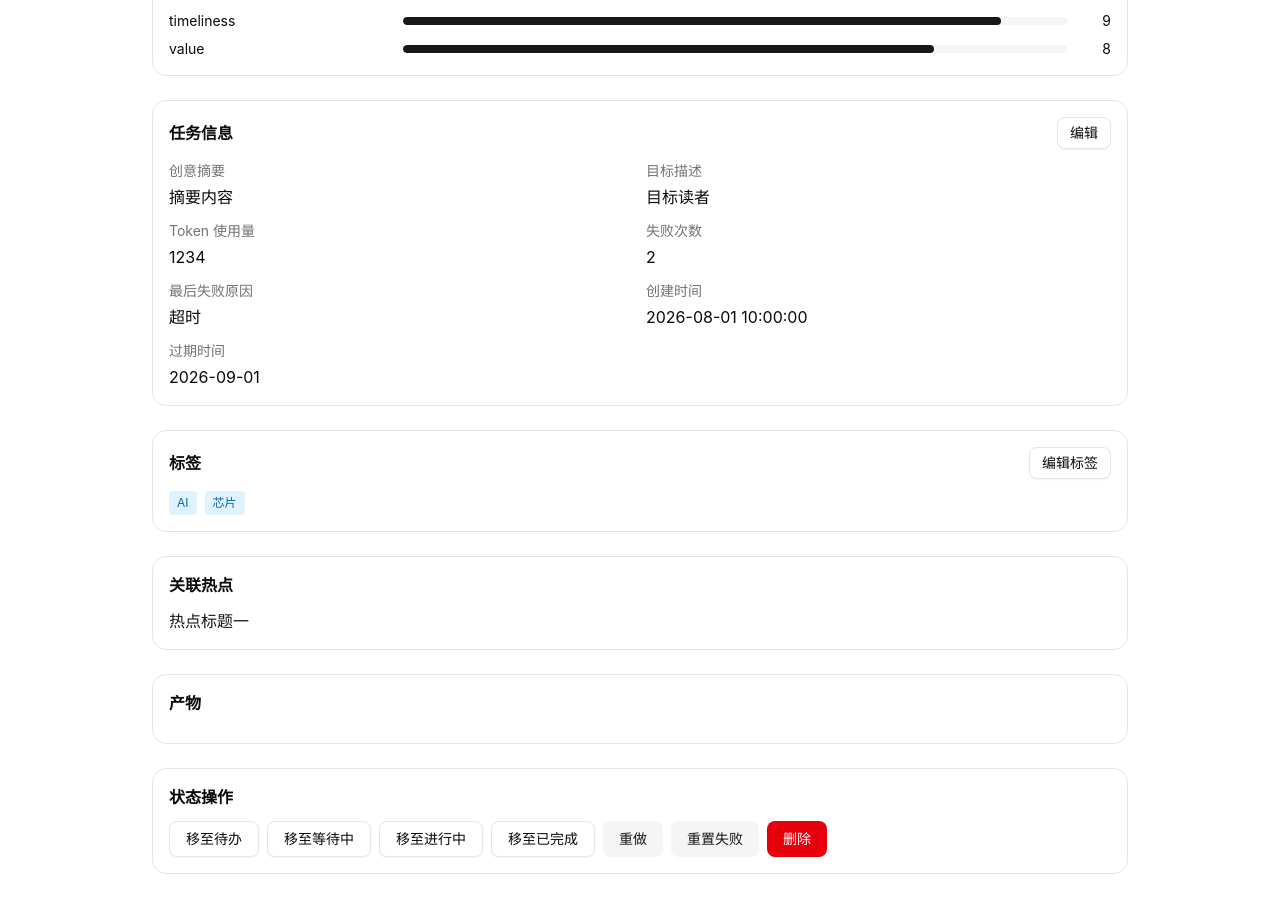
TaskDetailPage › shows an error message when move returns 409
The image size is (1280, 898).
(page scrolled)
Step 1. Click the button "移至等待中" → {"x": 319, "y": 839}, box [267,821,371,857]
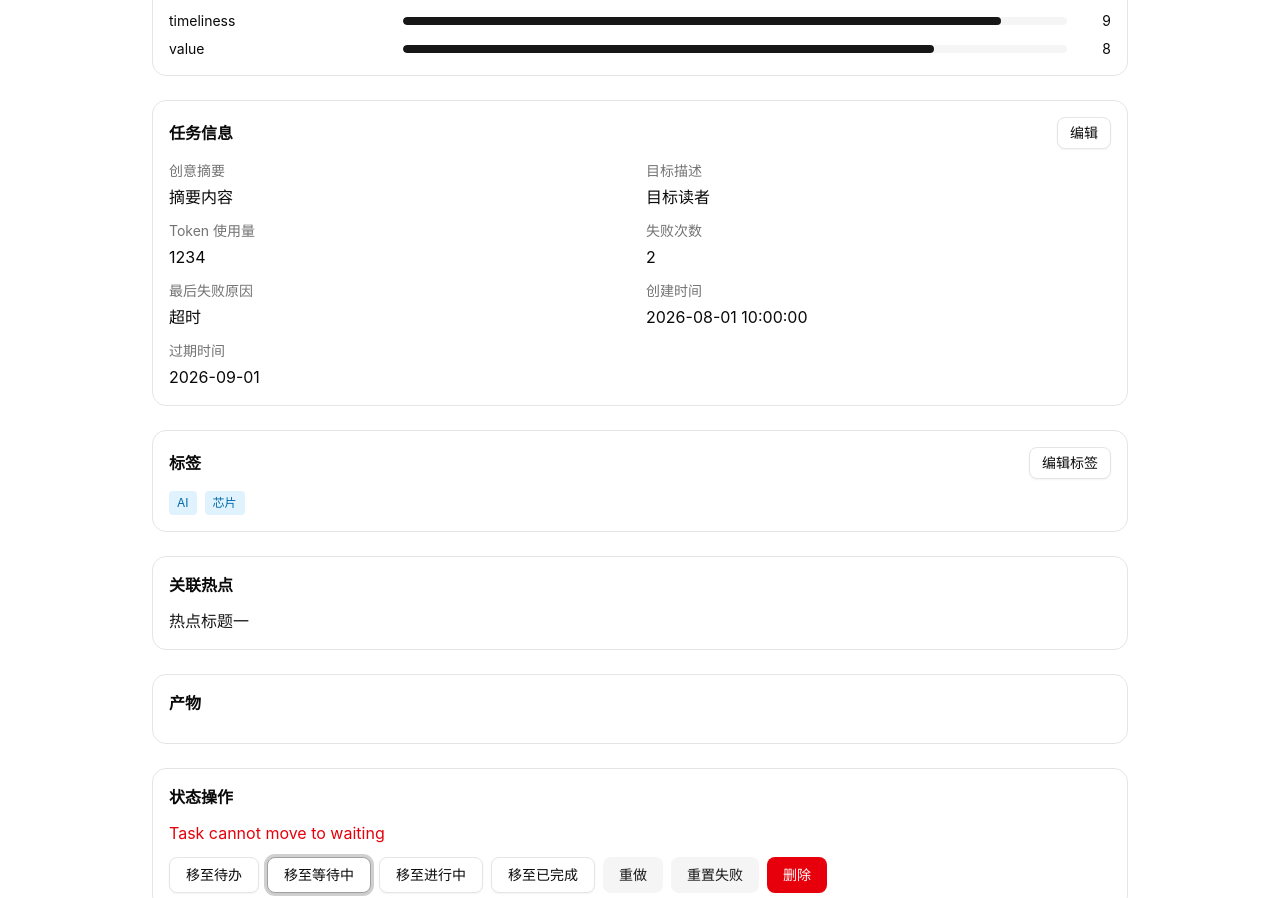
Result: the text "Task cannot move to waiting" is shown at [169,823,385,843]
